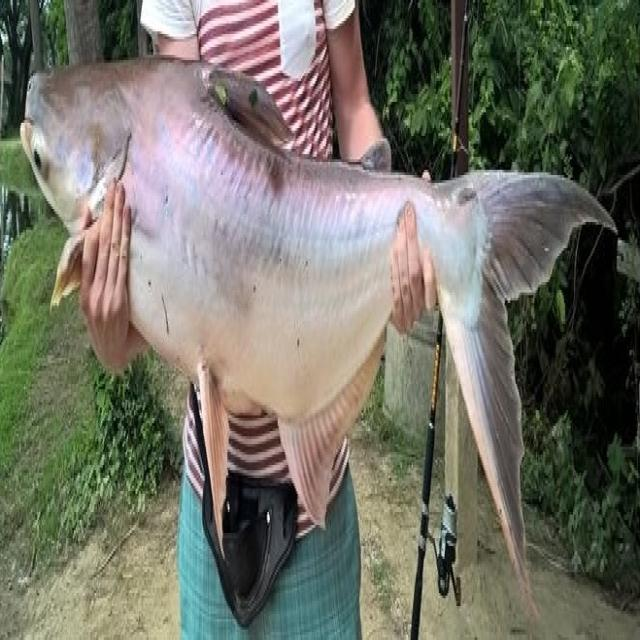Catfish: (14, 38, 621, 621)
